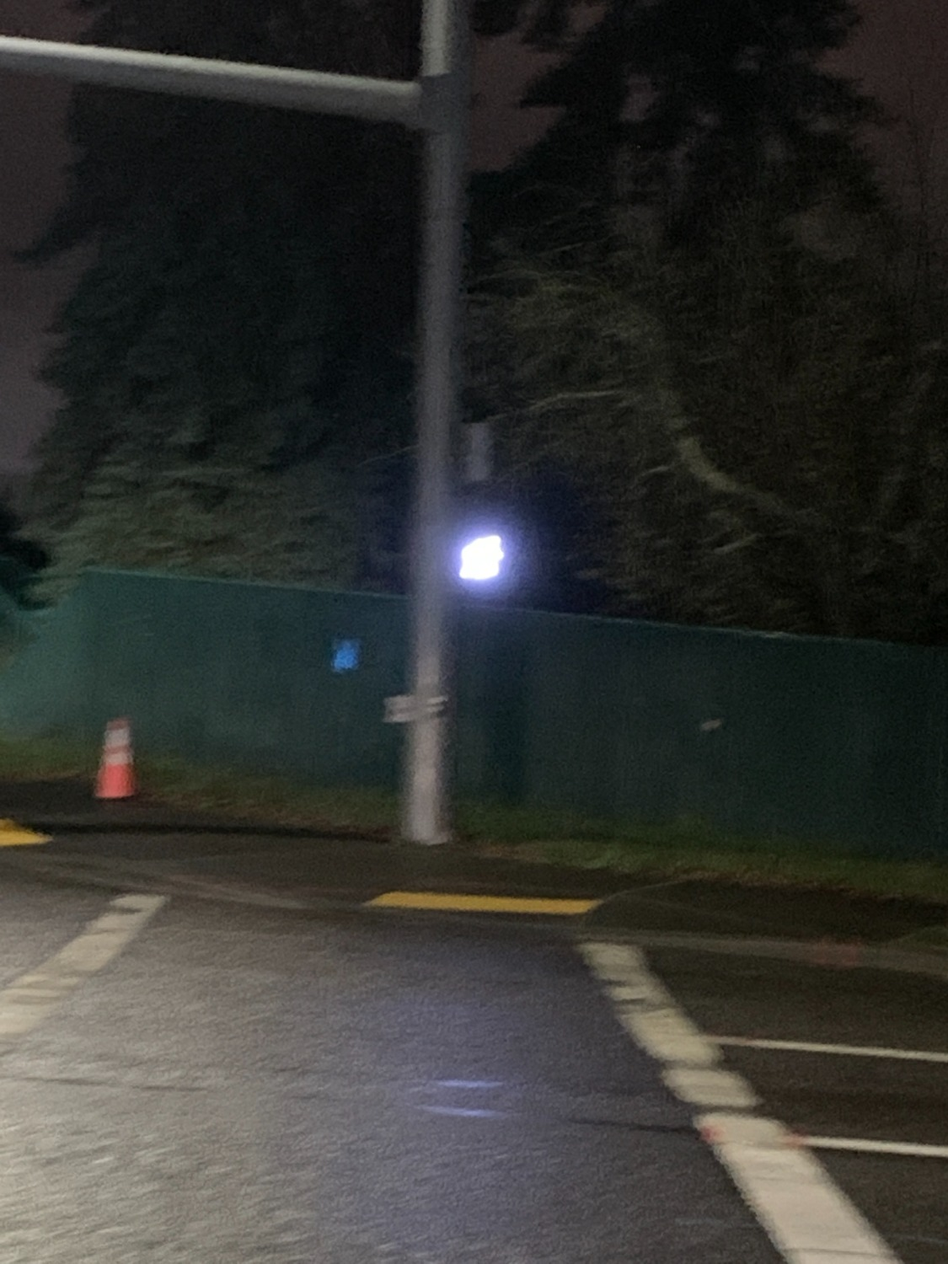crosswalk: (0, 897, 778, 1263)
pedestrian_walk: (461, 529, 507, 581)
pole: (0, 0, 469, 844)
